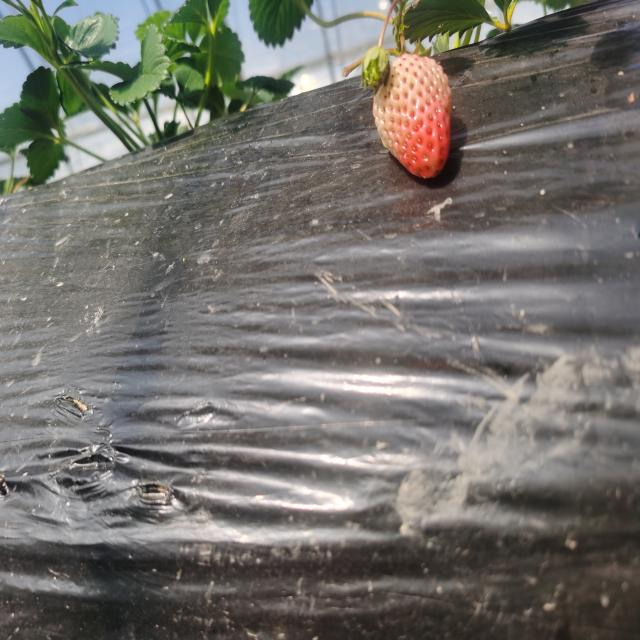stem: (399, 33, 406, 55)
strawberry: (371, 53, 452, 177)
